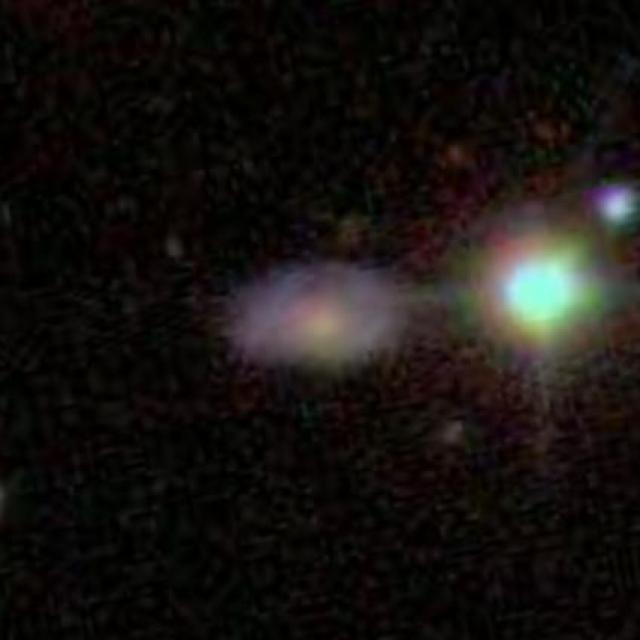galaxy: (214, 249, 411, 390), (594, 179, 640, 237)
star: (370, 139, 639, 454)
